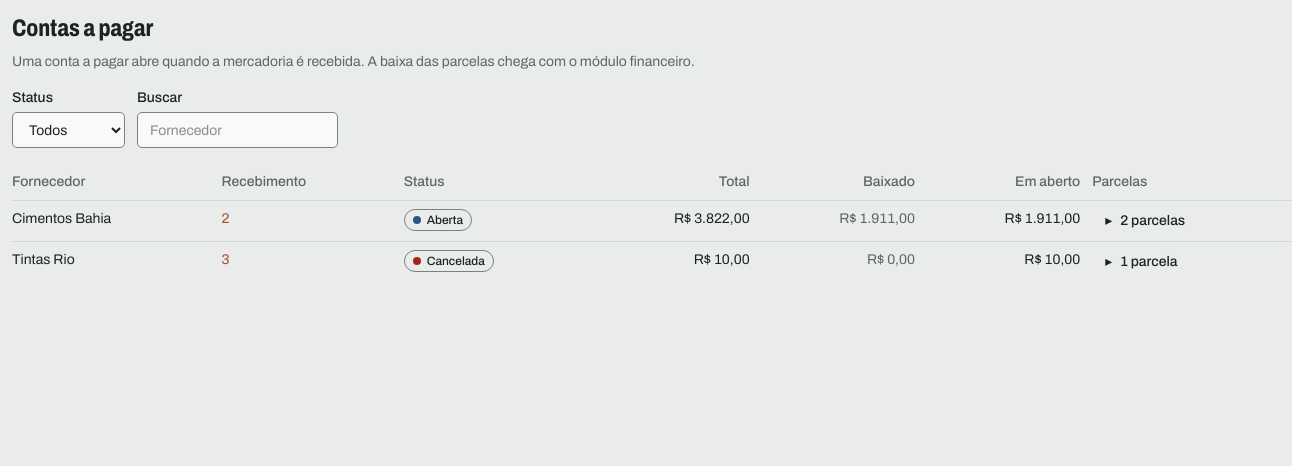
PayablesScreen › keeps each payable's installments open or closed on their own
What coordinates should you click on to do the following:
click the button "▸ 2 parcelas"
I would click on:
 (1145, 221)
Its box is [1092, 205, 1198, 237].
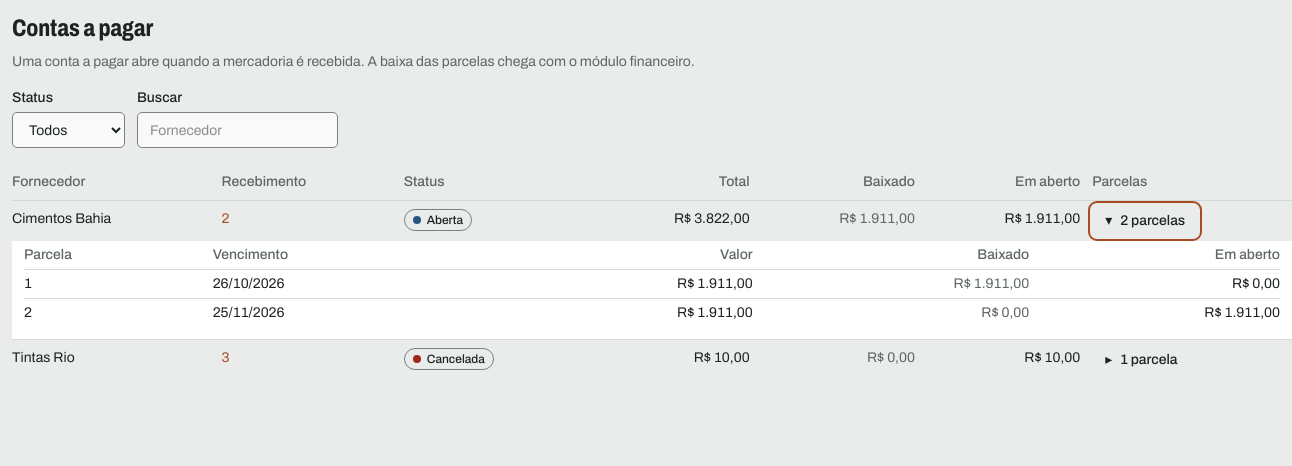
What coordinates should you click on to do the following:
click the button "▸ 1 parcela"
I would click on:
 (1141, 360)
Its box is [1092, 344, 1190, 376].
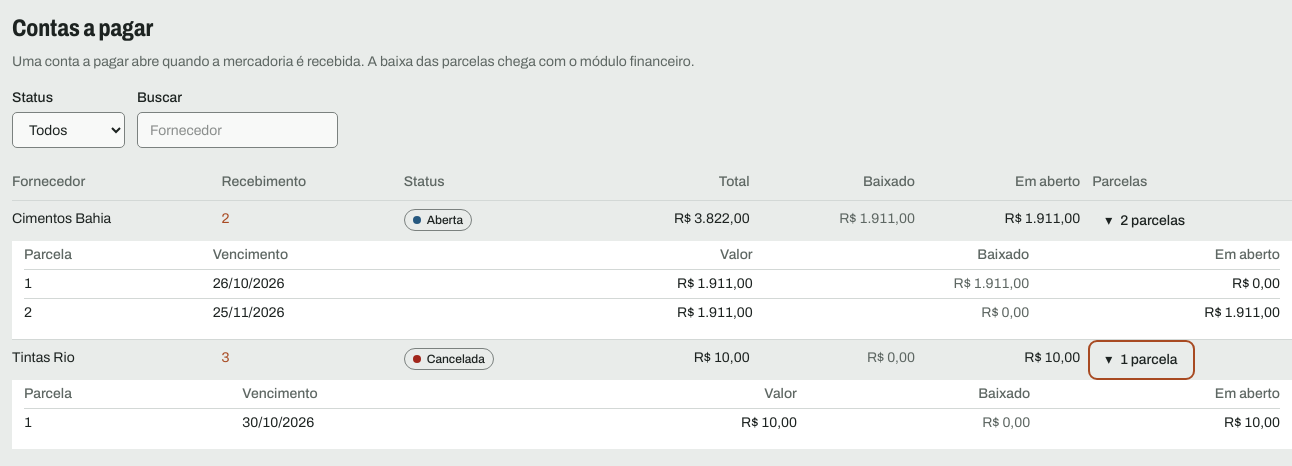
Now the number of tables named "Parcelas de" is 2, box [24, 241, 1280, 327]; [24, 380, 1280, 437]
What coordinates should you click on to do the following:
click the button "▾ 2 parcelas"
I would click on:
 (1145, 221)
Its box is [1092, 205, 1198, 237].
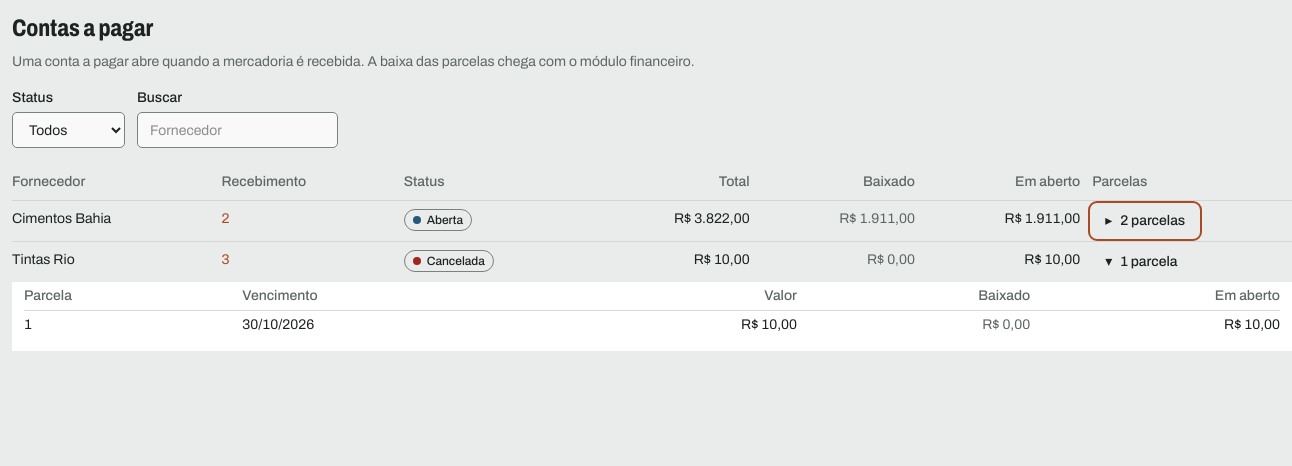
Now the number of tables named "Parcelas de" is 1, box [24, 282, 1280, 339]
